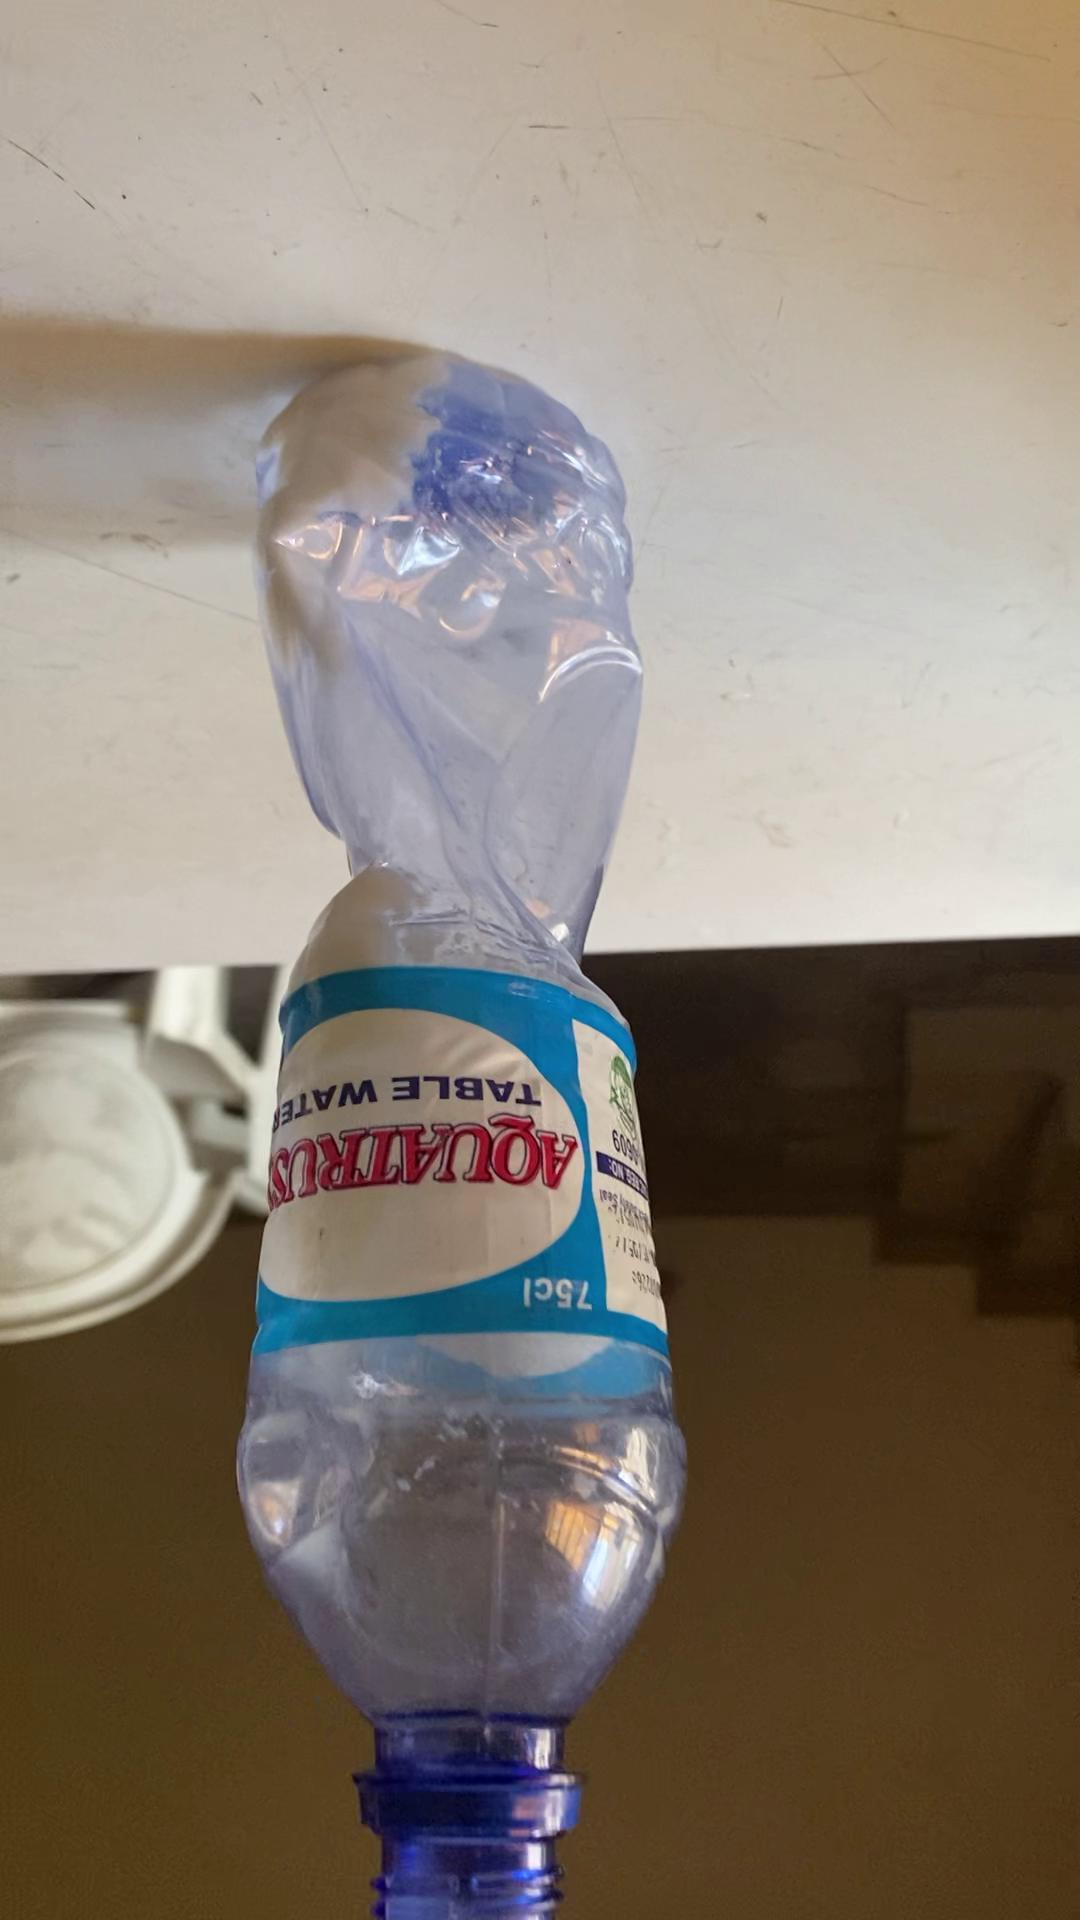crumbled: (222, 343, 698, 1920)
label: (272, 978, 673, 1346)
no-cap: (352, 1776, 572, 1920)
